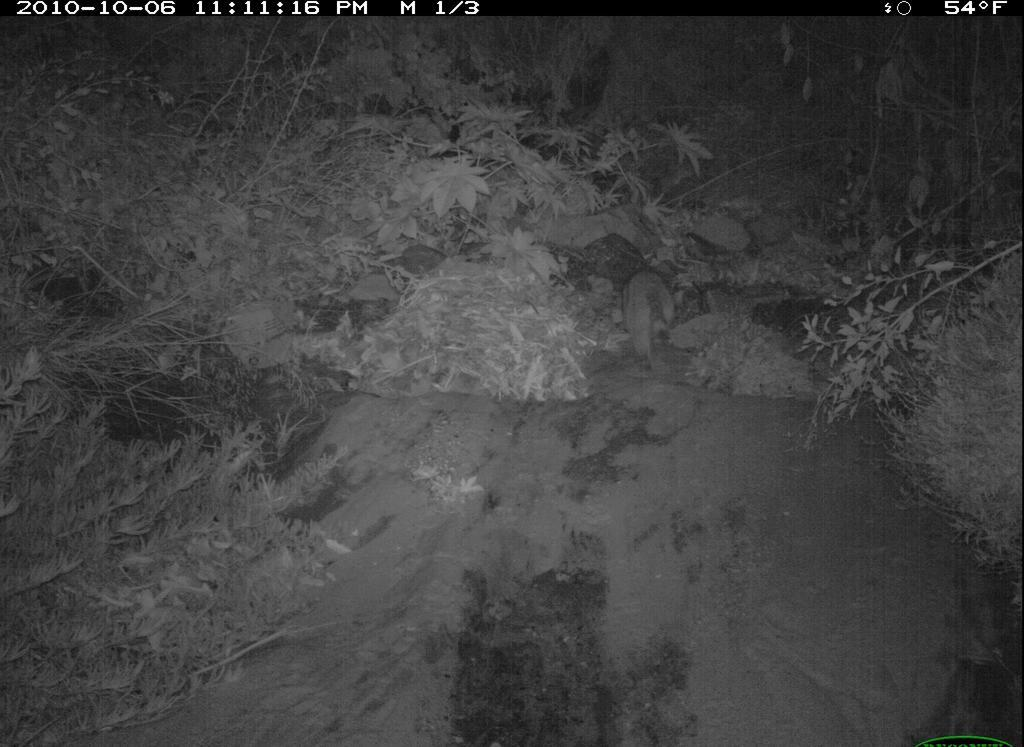raccoon: (619, 264, 683, 372)
